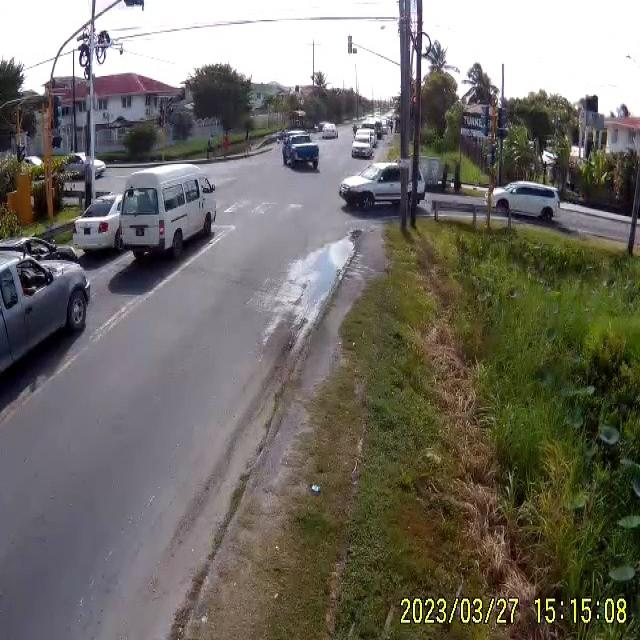car: (1, 235, 93, 443), (117, 166, 216, 258), (338, 163, 428, 213), (76, 188, 120, 256), (492, 183, 559, 223), (283, 140, 319, 173), (352, 136, 376, 158), (354, 127, 376, 149), (320, 123, 338, 139)
